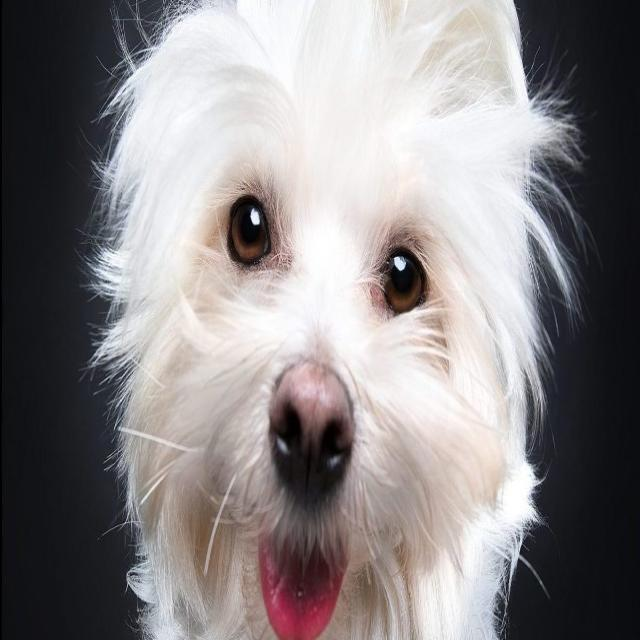maltese: (124, 27, 550, 640)
